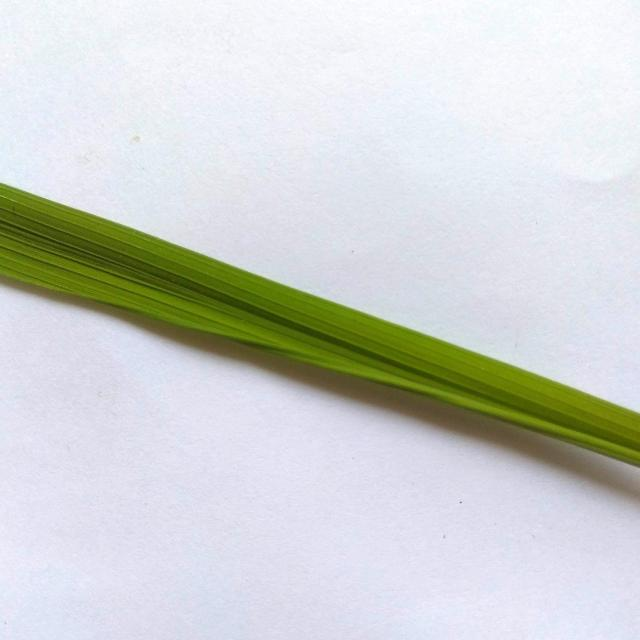healthy: (0, 170, 640, 492)
